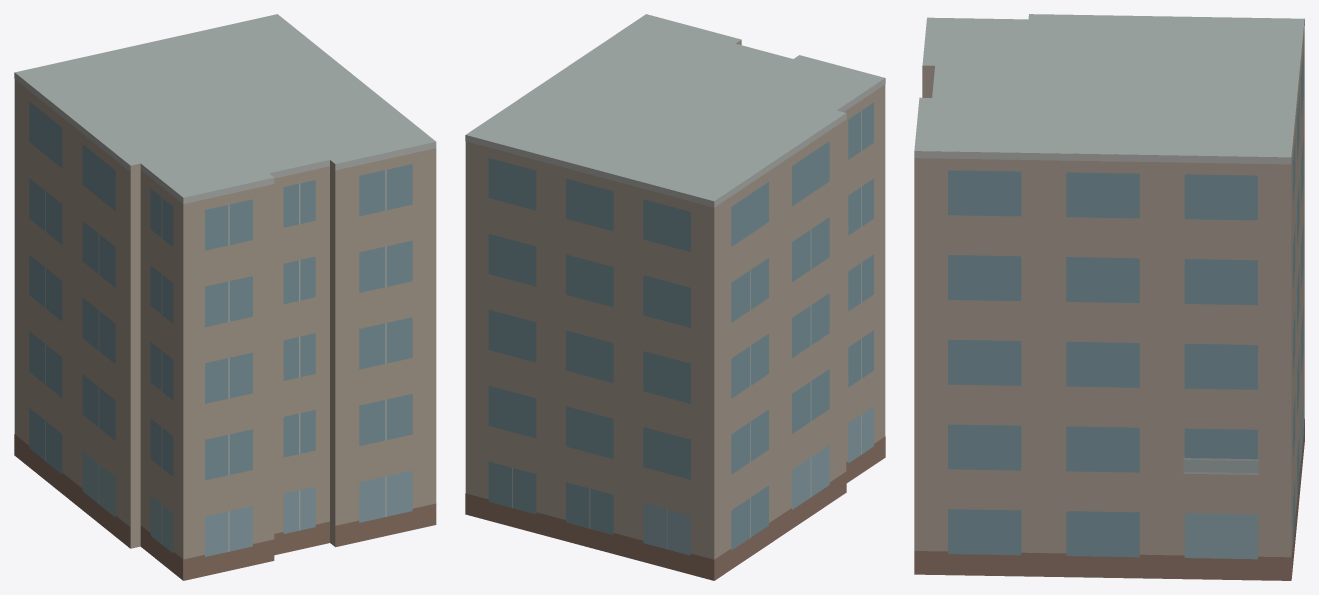
File: survey-upis-32963106.glb
3 renders of one model, left to right at view 1: azimuth 30°, elevation 25°; view 2: azimuth 150°, elevation 25°; view 3: azimuth 270°, elevation 25°, orthographic. The views are drawn at different scales.
Visible parts, largest first — view 1: survey-upis-32963106.tmp; view 2: survey-upis-32963106.tmp; view 3: survey-upis-32963106.tmp.
Boxes of the visible parts, x1,y1,x2,y2 form: survey-upis-32963106.tmp: (14,14,436,580); survey-upis-32963106.tmp: (465,14,885,580); survey-upis-32963106.tmp: (914,14,1304,580).
Size of the model in its own units: 10.68 by 14.7 by 12.29.
